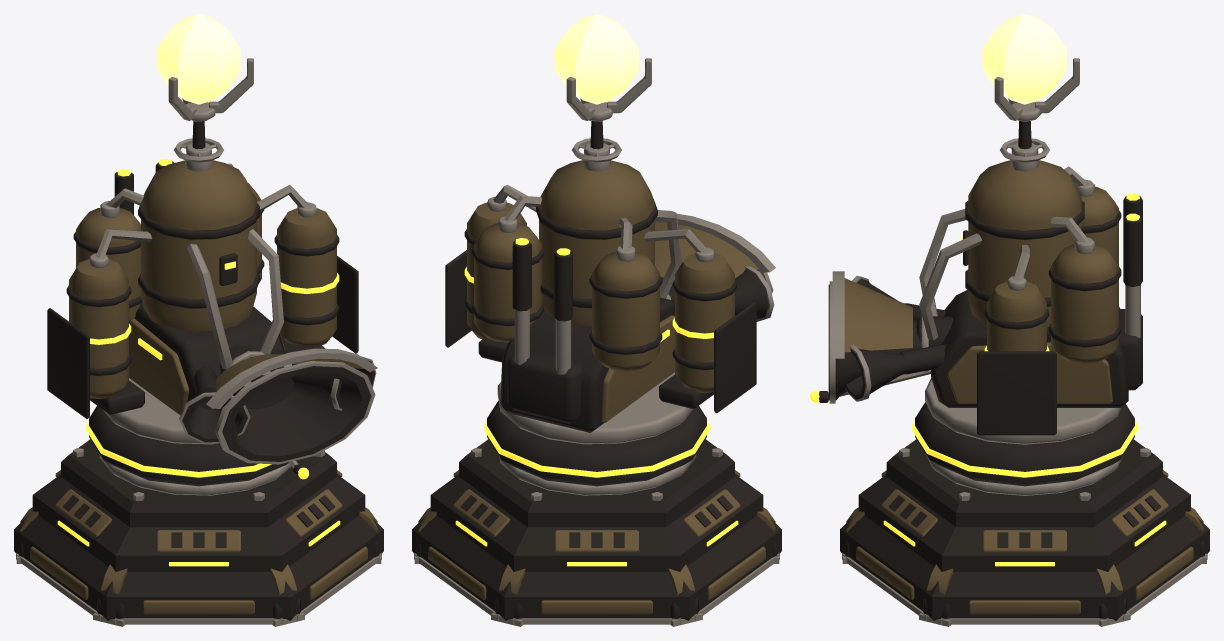
File: tower_flame.glb
The picture shows the model from 3 angles, left to right: view 1: azimuth 30°, elevation 25°; view 2: azimuth 150°, elevation 25°; view 3: azimuth 270°, elevation 25°; orthographic projection.
Visible parts, largest first — view 1: base, turret, lvl3, barrel, lvl2, tower_flame; view 2: base, turret, lvl3, tower_flame, lvl2; view 3: base, turret, lvl3, lvl2, tower_flame, barrel.
Boxes of the visible parts, x1,y1,x2,y2 form: base: (14,405,383,626); turret: (73,58,285,444); lvl3: (47,158,358,418); barrel: (215,345,375,479); lvl2: (179,348,377,443); tower_flame: (157,14,240,104); base: (412,400,781,626); turret: (471,58,693,444); lvl3: (445,185,756,413); tower_flame: (555,14,638,104); lvl2: (655,213,775,321); base: (840,402,1209,626); turret: (919,58,1142,444); lvl3: (977,193,1142,435); lvl2: (832,271,946,401); tower_flame: (983,14,1066,104); barrel: (810,281,953,403).
Size of the model in its own units: 1.66 by 2.99 by 2.
